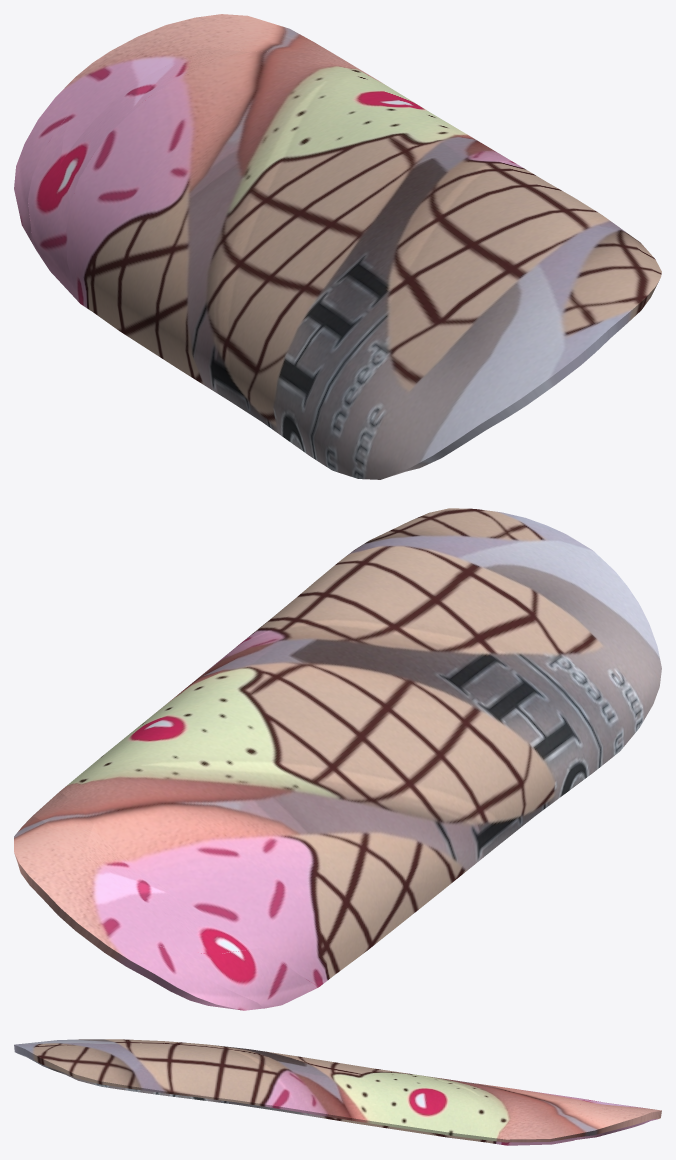
3 renders of one model, top to bottom at view 1: azimuth 30°, elevation 25°; view 2: azimuth 150°, elevation 25°; view 3: azimuth 270°, elevation 25°, orthographic. The views are drawn at different scales.
Visible parts, largest first — view 1: OBJ_03, OBJ_05, OBJ_10, OBJ_07, OBJ_08, OBJ_06, OBJ_09; view 2: OBJ_03, OBJ_05, OBJ_07, OBJ_10, OBJ_08, OBJ_06, OBJ_09; view 3: OBJ_03, OBJ_08, OBJ_09, OBJ_05, OBJ_10, OBJ_07.
Boxes of the visible parts, bbox=[...] form: OBJ_03: bbox=[66, 50, 661, 479]; OBJ_05: bbox=[14, 43, 195, 248]; OBJ_10: bbox=[28, 110, 80, 303]; OBJ_07: bbox=[60, 47, 249, 203]; OBJ_08: bbox=[93, 14, 333, 62]; OBJ_06: bbox=[60, 46, 205, 163]; OBJ_09: bbox=[166, 35, 373, 77]; OBJ_03: bbox=[59, 508, 661, 986]; OBJ_05: bbox=[72, 863, 263, 1010]; OBJ_07: bbox=[82, 824, 262, 954]; OBJ_10: bbox=[153, 945, 318, 1008]; OBJ_08: bbox=[14, 816, 92, 941]; OBJ_06: bbox=[80, 856, 214, 954]; OBJ_09: bbox=[32, 792, 93, 884]; OBJ_03: bbox=[14, 1039, 579, 1145]; OBJ_08: bbox=[550, 1108, 661, 1141]; OBJ_09: bbox=[505, 1103, 625, 1142]; OBJ_05: bbox=[575, 1106, 660, 1139]; OBJ_10: bbox=[506, 1137, 576, 1145]; OBJ_07: bbox=[562, 1098, 605, 1106].
Bounding box in the file's own units: 112 × 73.99 × 289.
